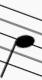B: (1, 3, 36, 79)
